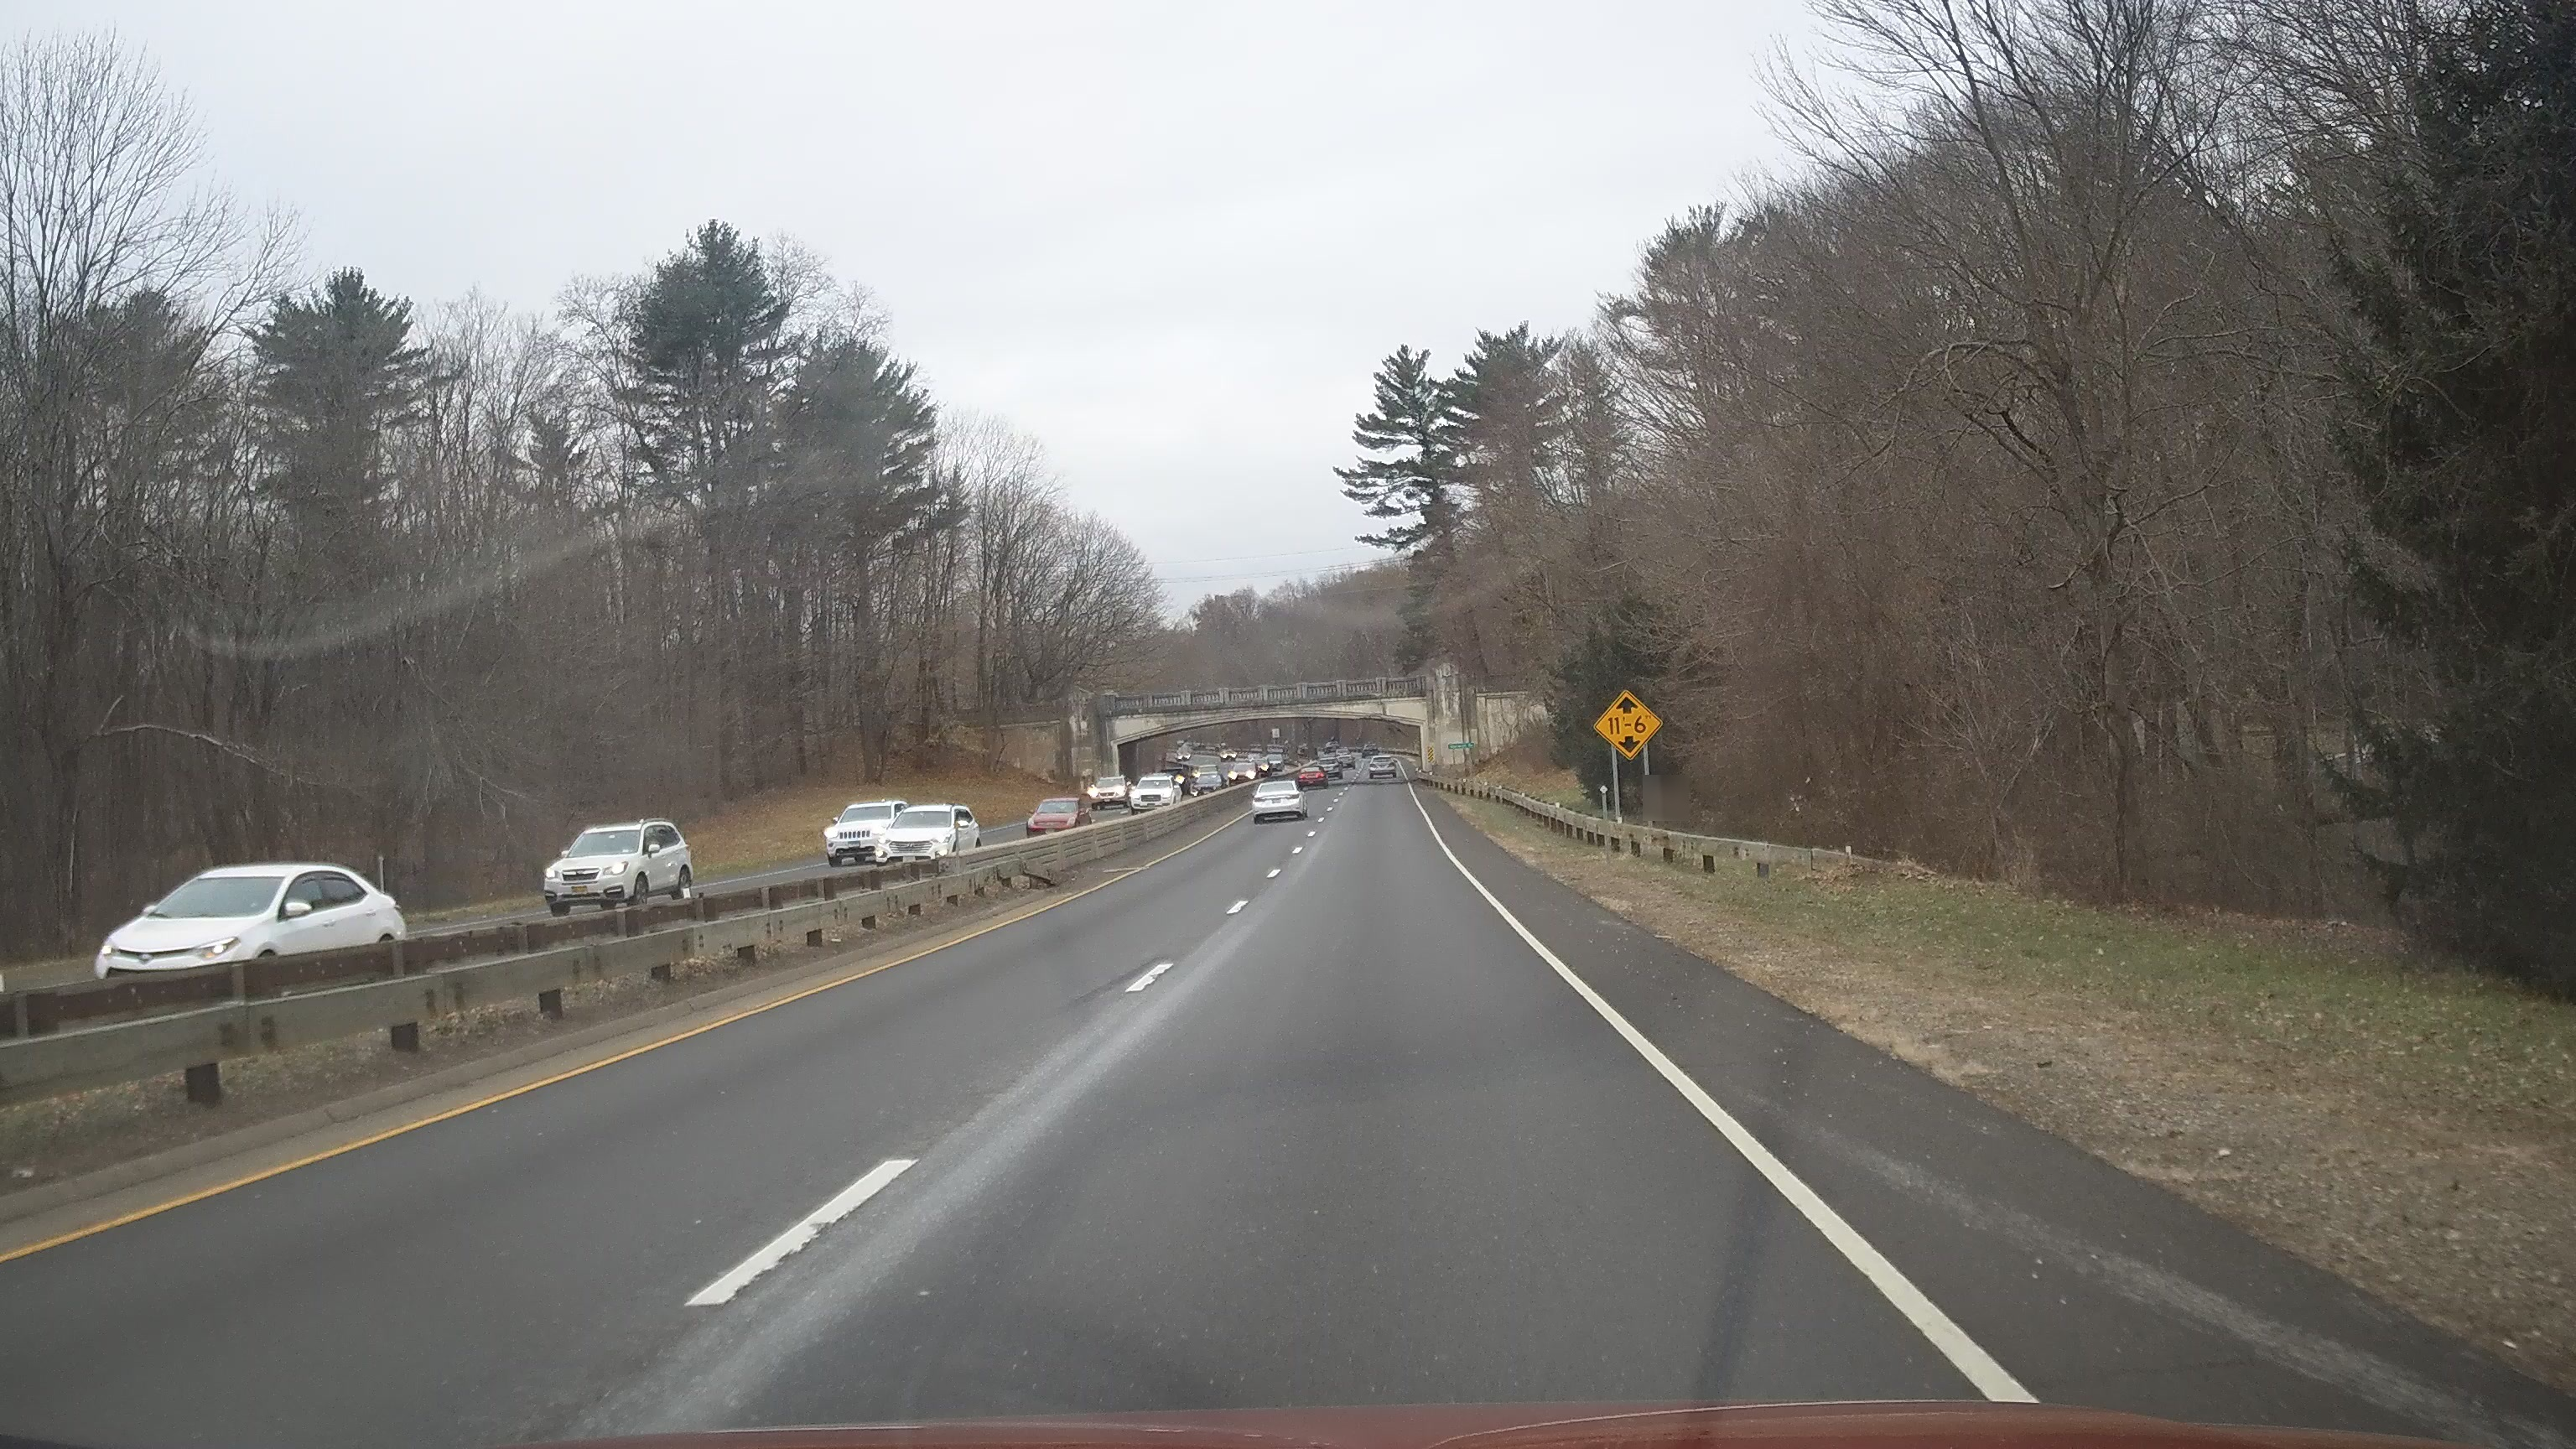low-clearance-sign: (1594, 690, 1665, 761)
